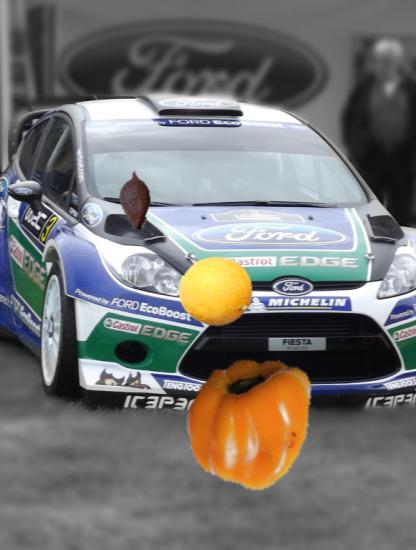Cantaloupe: (179, 254, 253, 328)
Pepper: (181, 349, 323, 491)
Salak: (106, 171, 166, 231)
